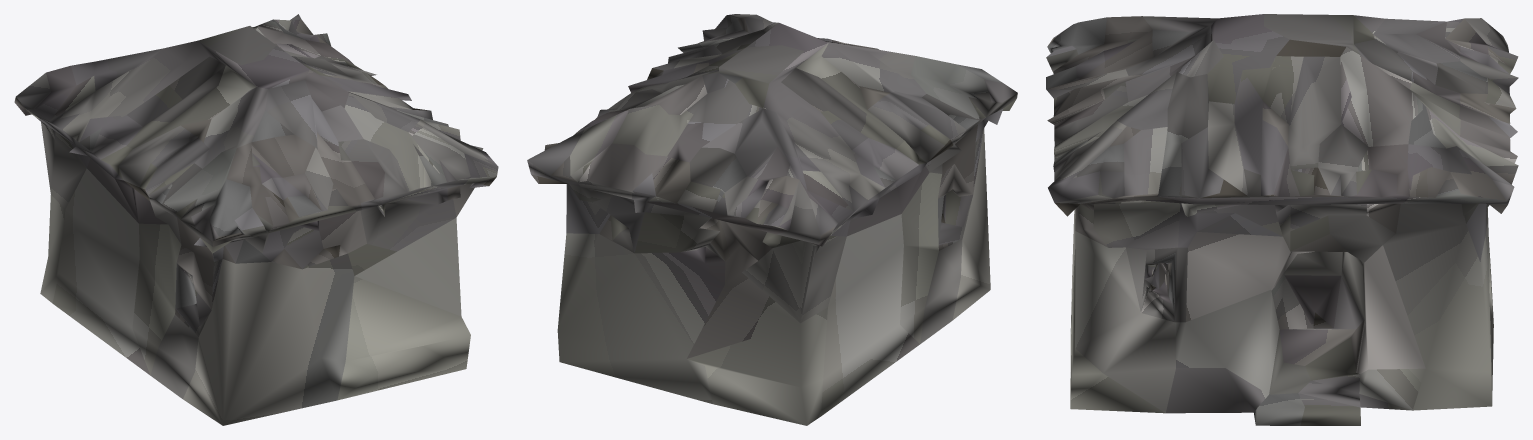
Rendered from house_cottage_0_lo.glb.
3 views of the same model, side by side, from view 1: azimuth 30°, elevation 25°; view 2: azimuth 150°, elevation 25°; view 3: azimuth 270°, elevation 25° (orthographic). The views are drawn at different scales.
Parts seen in each view (by area): view 1: tripo_node_0d32273a-63ae-4ceb-8717-d3324743e121; view 2: tripo_node_0d32273a-63ae-4ceb-8717-d3324743e121; view 3: tripo_node_0d32273a-63ae-4ceb-8717-d3324743e121.
Part boxes in pixels (box(x1,y1,x2,y2)): tripo_node_0d32273a-63ae-4ceb-8717-d3324743e121: box(14, 14, 498, 425); tripo_node_0d32273a-63ae-4ceb-8717-d3324743e121: box(527, 14, 1017, 425); tripo_node_0d32273a-63ae-4ceb-8717-d3324743e121: box(1046, 14, 1518, 425).
Bounding box in the file's own units: 0.8219 × 0.7244 × 0.9802.
1 material, 1 textured.
